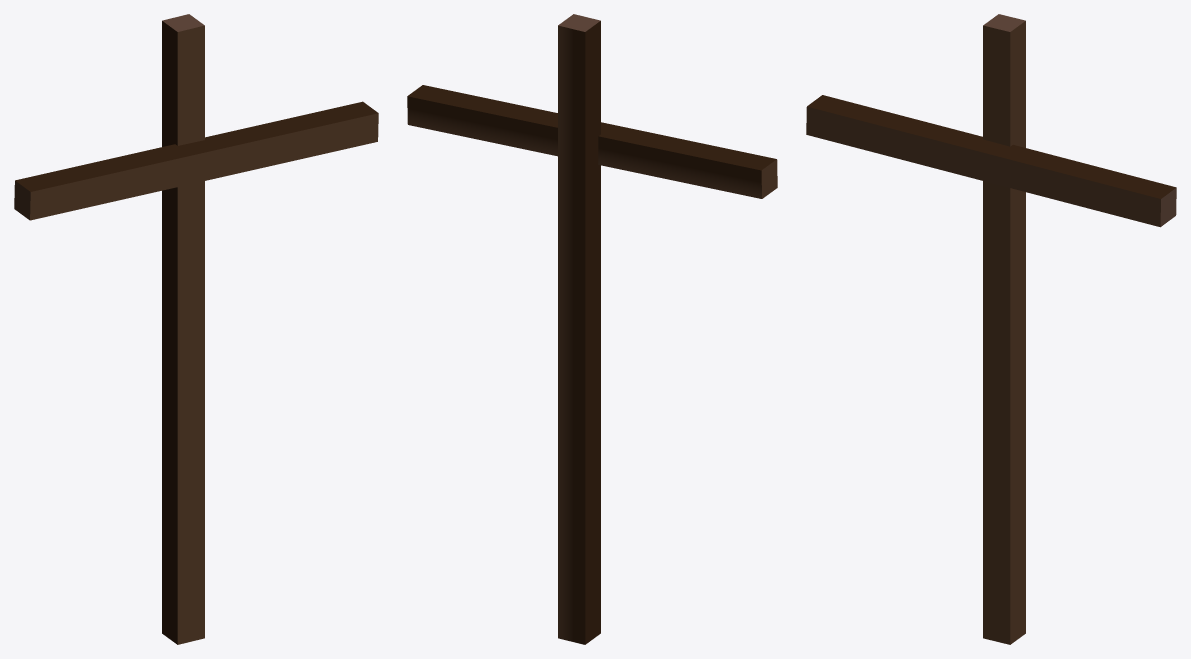
The model's file is Street Cross.glb.
3 views of the same model, side by side, from view 1: azimuth 30°, elevation 25°; view 2: azimuth 150°, elevation 25°; view 3: azimuth 330°, elevation 25° (orthographic).
Visible parts, largest first — view 1: Street cross; view 2: Street cross; view 3: Street cross.
Part boxes in pixels (<box>): Street cross: <box>14,14,378,644</box>; Street cross: <box>407,14,777,644</box>; Street cross: <box>806,14,1176,644</box>.
Size of what is drawn, in the model's own units: 1.5 by 2.5 by 0.2245.
1 material, 1 textured.
